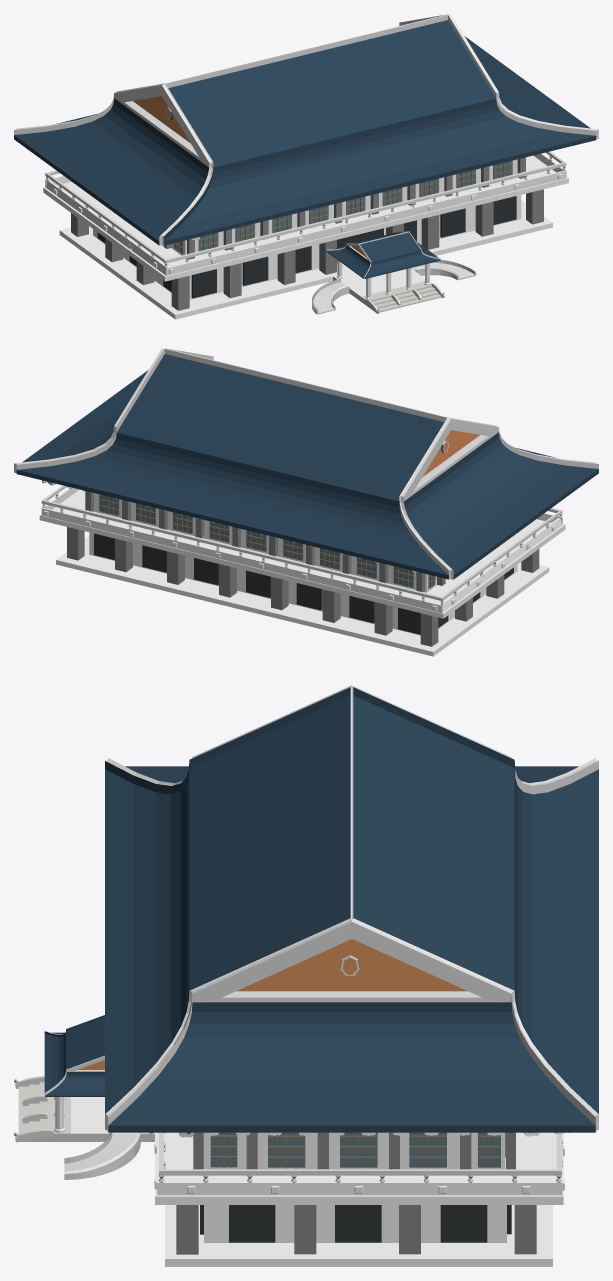
Rendered from chengwadae1.fbx.
3 views of the same model, one above another, from view 1: azimuth 30°, elevation 25°; view 2: azimuth 150°, elevation 25°; view 3: azimuth 270°, elevation 25° (orthographic). The views are drawn at different scales.
Parts seen in each view (by area): view 1: Roof.004, Base, 1F_Pillar, 1F_Window, Roof.001, 2F_Window, 2F_Handrail, Stair, Torus, 2F_Pillar, Pillar, 2F_handrail2; view 2: Roof.004, Base, 1F_Pillar, 1F_Window, 2F_Window, 2F_Handrail, 2F_Pillar, 2F_handrail2; view 3: Roof.004, Base, 2F_Window, 1F_Window, 1F_Pillar, Roof.001, Stair, 2F_Handrail, 2F_Pillar, Torus, handrail.
Boxes of the visible parts, left/top/right/bottom form: Roof.004: left=14, top=14, right=598, bottom=245; Base: left=43, top=153, right=568, bottom=319; 1F_Pillar: left=71, top=189, right=543, bottom=310; 1F_Window: left=97, top=196, right=516, bottom=298; Roof.001: left=326, top=231, right=440, bottom=278; 2F_Window: left=174, top=160, right=513, bottom=253; 2F_Handrail: left=45, top=151, right=566, bottom=263; Stair: left=333, top=268, right=441, bottom=312; Torus: left=312, top=260, right=476, bottom=314; 2F_Pillar: left=163, top=157, right=525, bottom=259; Pillar: left=336, top=260, right=430, bottom=299; 2F_handrail2: left=45, top=156, right=565, bottom=267; Roof.004: left=14, top=348, right=598, bottom=579; Base: left=39, top=487, right=565, bottom=656; 1F_Pillar: left=67, top=527, right=539, bottom=646; 1F_Window: left=94, top=533, right=513, bottom=634; 2F_Window: left=98, top=495, right=436, bottom=588; 2F_Handrail: left=41, top=485, right=562, bottom=600; 2F_Pillar: left=85, top=491, right=445, bottom=592; 2F_handrail2: left=42, top=487, right=562, bottom=605; Roof.004: left=105, top=685, right=598, bottom=1132; Base: left=154, top=1132, right=564, bottom=1266; 2F_Window: left=210, top=1132, right=505, bottom=1168; 1F_Window: left=200, top=1205, right=511, bottom=1242; 1F_Pillar: left=176, top=1205, right=536, bottom=1254; Roof.001: left=44, top=1015, right=104, bottom=1096; Stair: left=18, top=1082, right=154, bottom=1141; 2F_Handrail: left=159, top=1132, right=561, bottom=1175; 2F_Pillar: left=193, top=1132, right=515, bottom=1169; Torus: left=64, top=1132, right=140, bottom=1179; handrail: left=14, top=1076, right=54, bottom=1142.
Size of the model in its own units: 4060 by 1628 by 2792.
